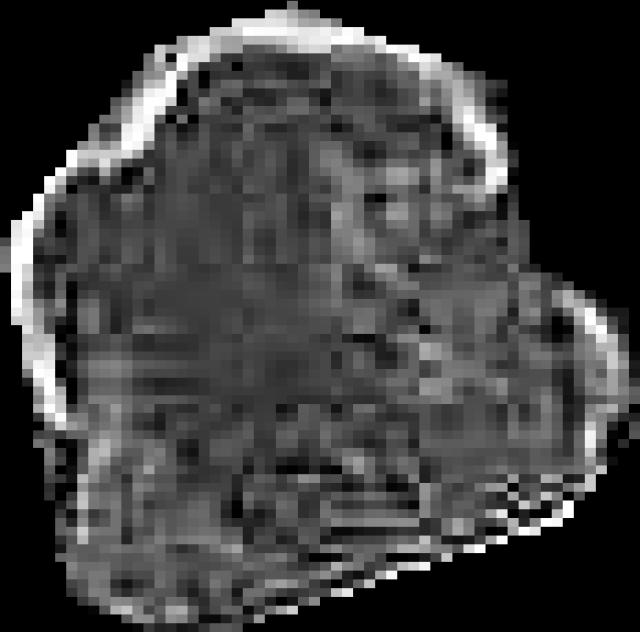tumor_moderate_chance: (0, 1, 640, 632)
